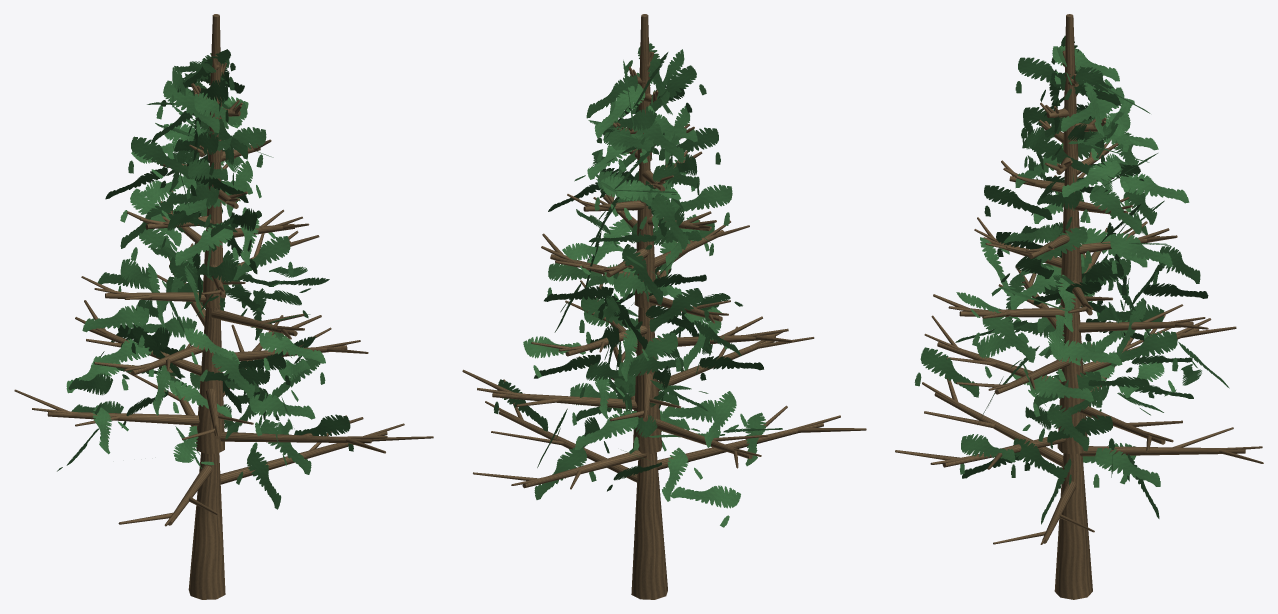
3 views of the same model, side by side, from view 1: azimuth 30°, elevation 25°; view 2: azimuth 150°, elevation 25°; view 3: azimuth 270°, elevation 25° (orthographic).
Parts seen in each view (by area): view 1: pine-needle, pine-bark; view 2: pine-needle, pine-bark; view 3: pine-needle, pine-bark.
Boxes of the visible parts, box(x1,y1,x2,y2) form: pine-needle: box(57, 49, 353, 509); pine-bark: box(14, 14, 433, 599); pine-needle: box(494, 42, 782, 527); pine-bark: box(462, 14, 866, 599); pine-needle: box(914, 35, 1229, 524); pine-bark: box(895, 14, 1263, 599).
Size of the model in its own units: 6.17 by 10.01 by 5.77.
2 materials, 2 textured.
